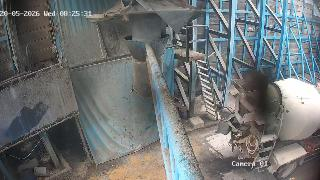cement_mixer_truck: (217, 70, 320, 179)
swing_chute: (122, 36, 168, 99)
